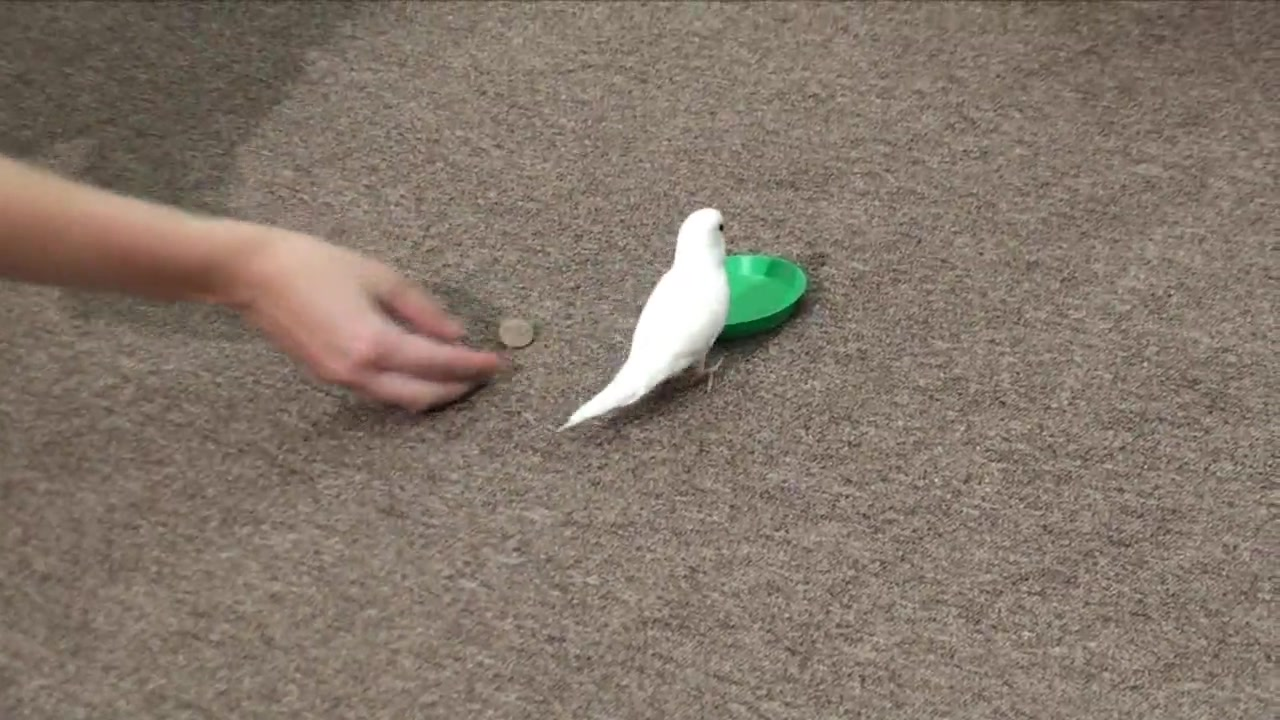bird: (560, 207, 732, 433)
